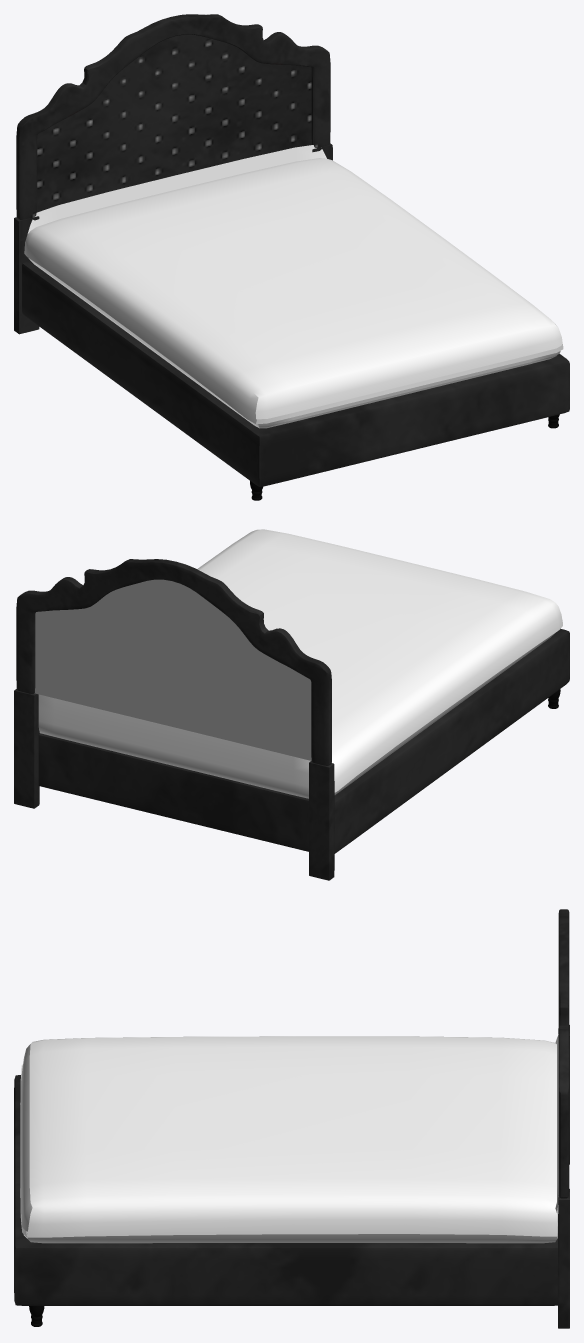
File: boyden_victoria_double_bed.fbx
3 views of the same model, one above another, from view 1: azimuth 30°, elevation 25°; view 2: azimuth 150°, elevation 25°; view 3: azimuth 270°, elevation 25° (orthographic). The views are drawn at different scales.
Parts seen in each view (by area): view 1: Boyden Victoria Upholstered Platform Bed; view 2: Boyden Victoria Upholstered Platform Bed; view 3: Boyden Victoria Upholstered Platform Bed.
Part boxes in pixels (<box>): Boyden Victoria Upholstered Platform Bed: <box>14,14,569,500</box>; Boyden Victoria Upholstered Platform Bed: <box>14,529,569,880</box>; Boyden Victoria Upholstered Platform Bed: <box>14,909,569,1328</box>.
Bounding box in the file's own units: 1.72 × 1.44 × 2.3.
